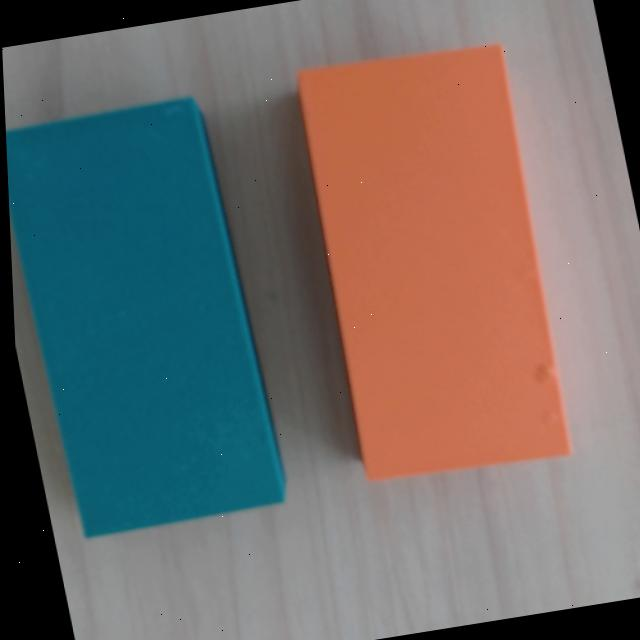Balok-Hijau-1005025: (0, 87, 290, 546)
Balok-Jingga-1005025: (295, 36, 572, 489)
